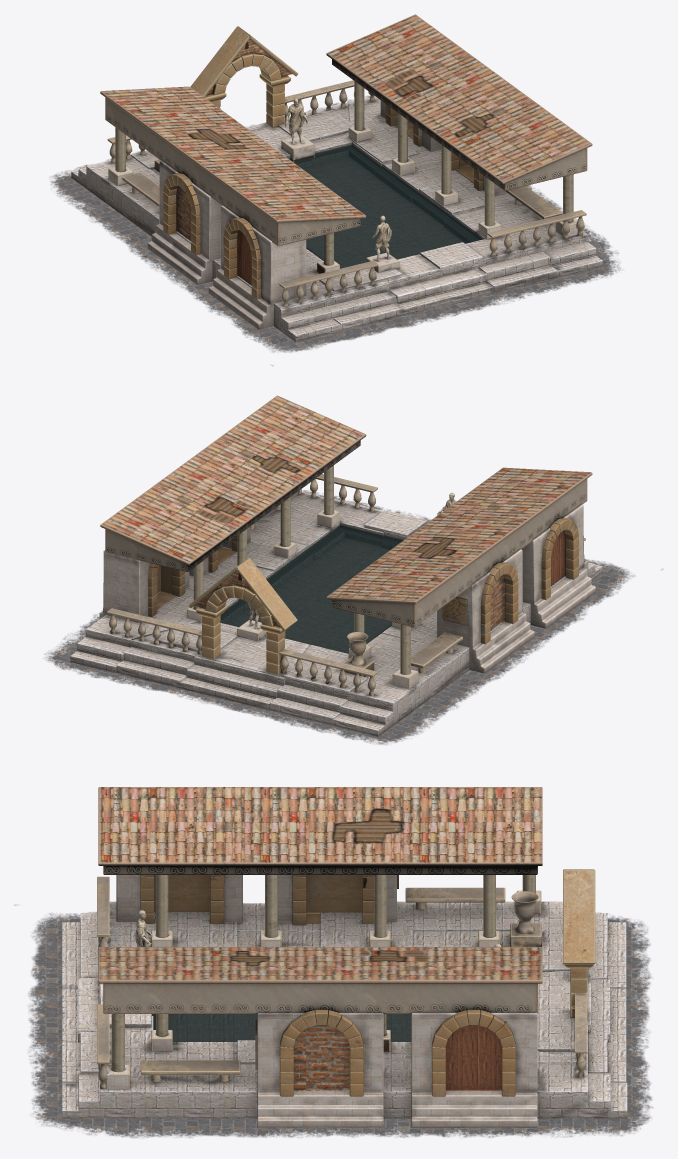
Rendered from 0606d82a-fbad-43e2-b65e-a1dc9aadaaa9.glb.
The picture shows the model from 3 angles, top to bottom: view 1: azimuth 30°, elevation 25°; view 2: azimuth 150°, elevation 25°; view 3: azimuth 270°, elevation 25°; orthographic projection. The views are drawn at different scales.
Visible parts, largest first — view 1: Roofs, Bath, Changing, Arch, Ground, Ballustrade, Statue; view 2: Roofs, Bath, Changing, Arch, Ground, Ballustrade; view 3: Roofs, Bath, Changing, Ground, Arch, Ballustrade.
Part boxes in pixels (bbox=[...]): Roofs: bbox=[100, 14, 592, 246]; Bath: bbox=[71, 96, 602, 341]; Changing: bbox=[147, 100, 531, 329]; Arch: bbox=[108, 26, 578, 273]; Ground: bbox=[50, 96, 620, 366]; Ballustrade: bbox=[107, 80, 586, 307]; Statue: bbox=[285, 98, 308, 144]; Roofs: bbox=[100, 395, 592, 627]; Bath: bbox=[70, 492, 602, 736]; Changing: bbox=[95, 504, 595, 673]; Arch: bbox=[187, 465, 418, 688]; Ground: bbox=[44, 490, 663, 744]; Ballustrade: bbox=[107, 474, 585, 695]; Roofs: bbox=[98, 787, 542, 1013]; Bath: bbox=[62, 901, 627, 1118]; Changing: bbox=[116, 875, 537, 1128]; Ground: bbox=[14, 904, 653, 1138]; Arch: bbox=[105, 869, 595, 1089]; Ballustrade: bbox=[97, 876, 587, 1089].
Size of the model in its own units: 0.9476 by 0.2878 by 1.08.
Materials: 9 (9 with a texture image).
